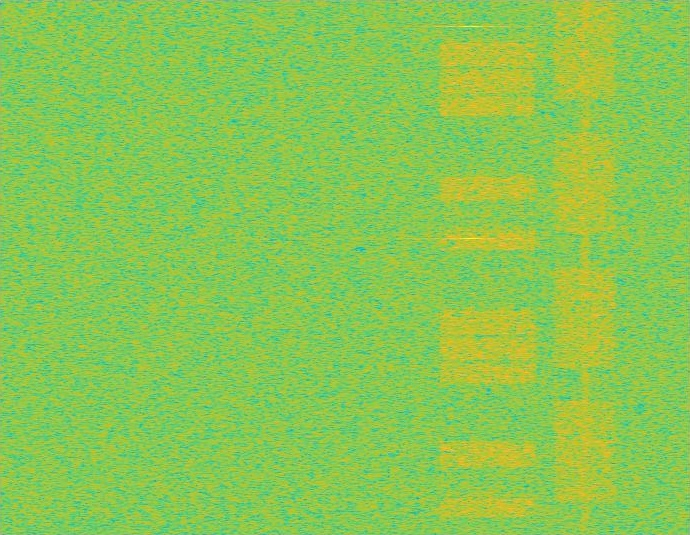5G: (551, 0, 620, 534)
DSSS: (580, 0, 590, 534)
LTE: (436, 0, 539, 534)
Radar: (464, 0, 478, 534)
